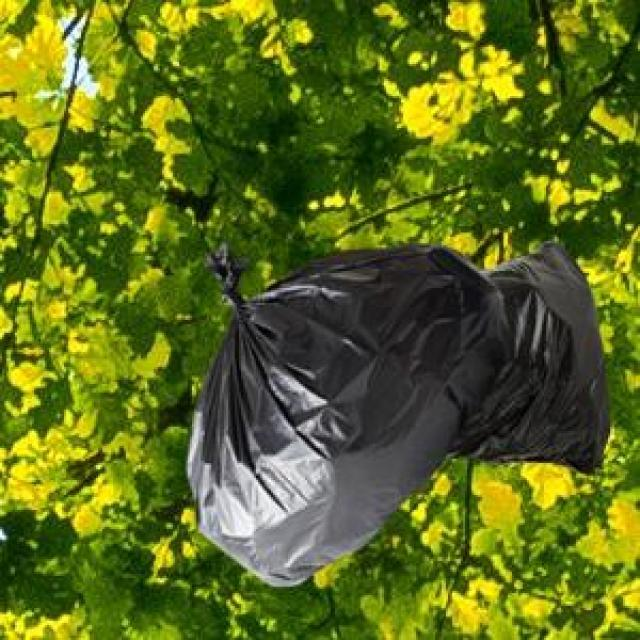Trashbag: (188, 235, 510, 598), (494, 238, 614, 480)
